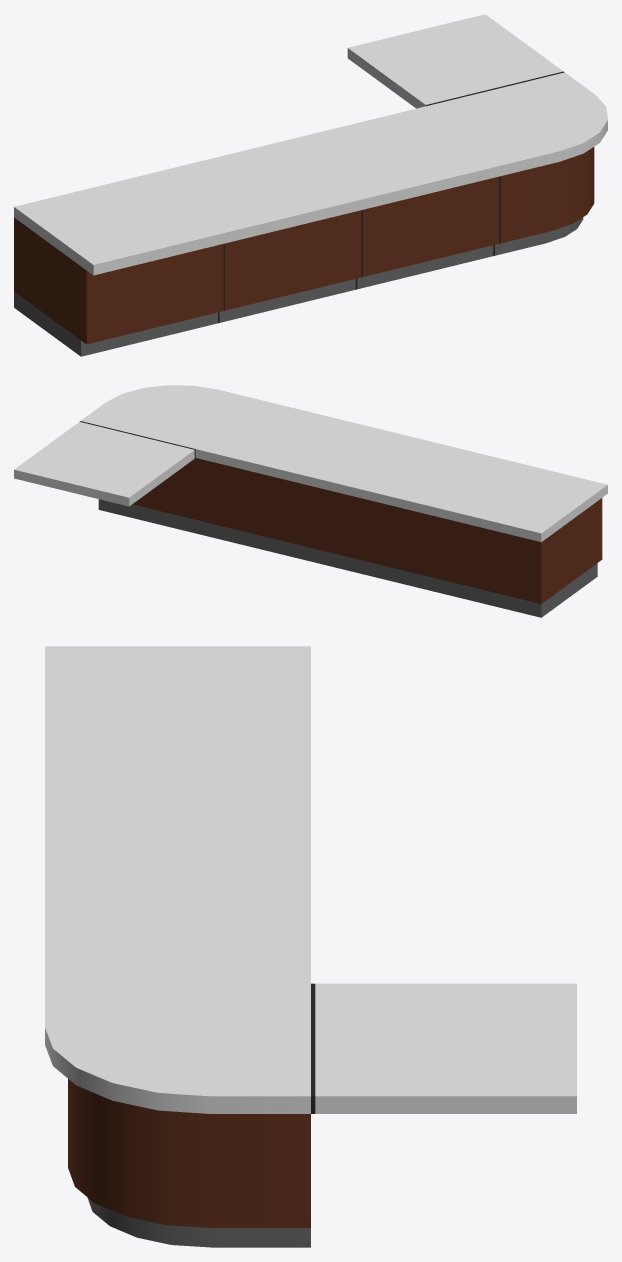
The model's file is Counter.fbx.
The picture shows the model from 3 angles, top to bottom: view 1: azimuth 30°, elevation 25°; view 2: azimuth 150°, elevation 25°; view 3: azimuth 270°, elevation 25°; orthographic projection. The views are drawn at different scales.
Parts seen in each view (by area): view 1: Counter; view 2: Counter; view 3: Counter.
Part boxes in pixels (bbox=[...]): Counter: bbox=[14, 14, 607, 356]; Counter: bbox=[14, 385, 607, 617]; Counter: bbox=[45, 646, 576, 1247].
Bounding box in the file's own units: 400 × 70 × 200.
